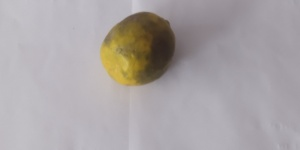BAD: (97, 11, 177, 86)
